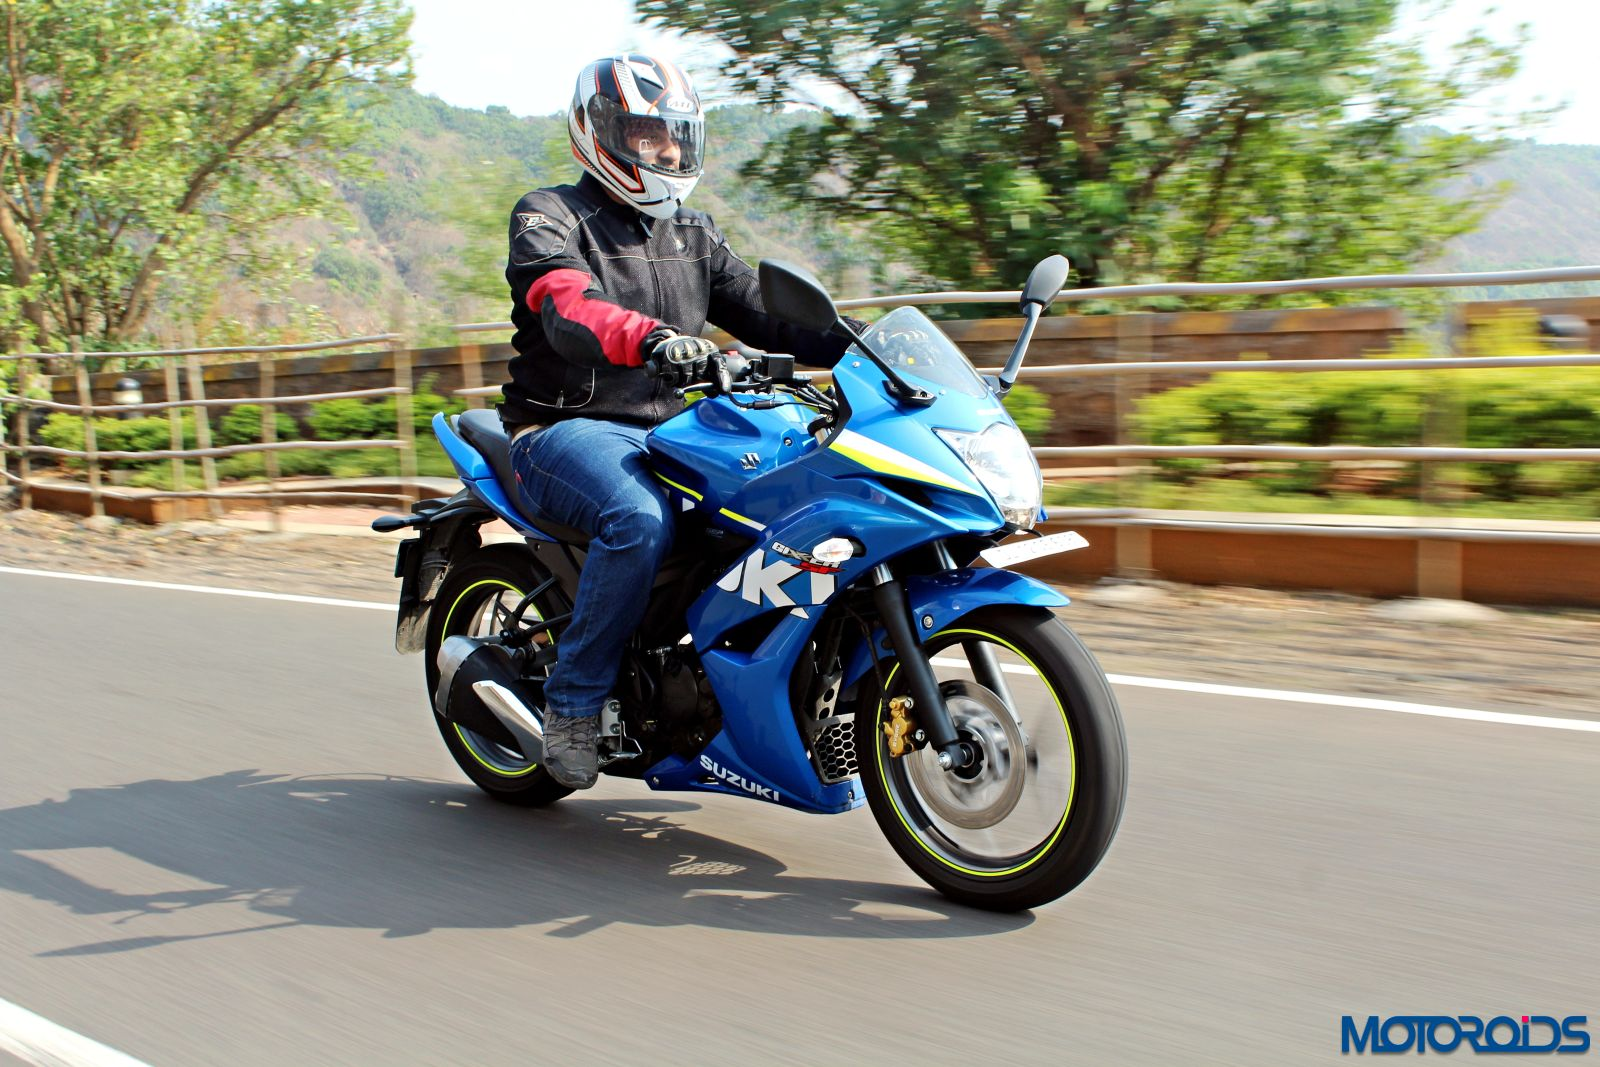helmet: (562, 55, 712, 204)
